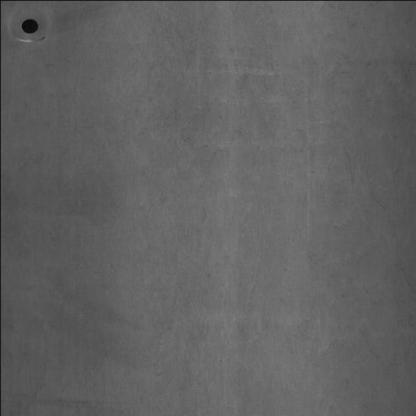punching_hole: (17, 11, 39, 37)
silk_spot: (156, 15, 273, 352), (313, 29, 410, 371)
